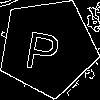P: (22, 22, 63, 73)
